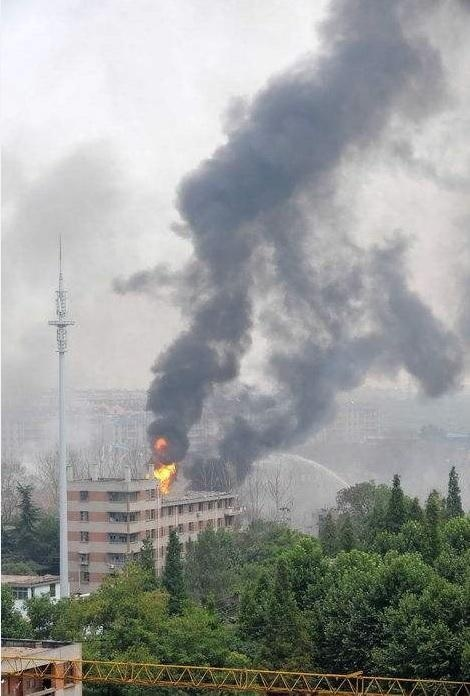fire: (146, 438, 175, 495)
